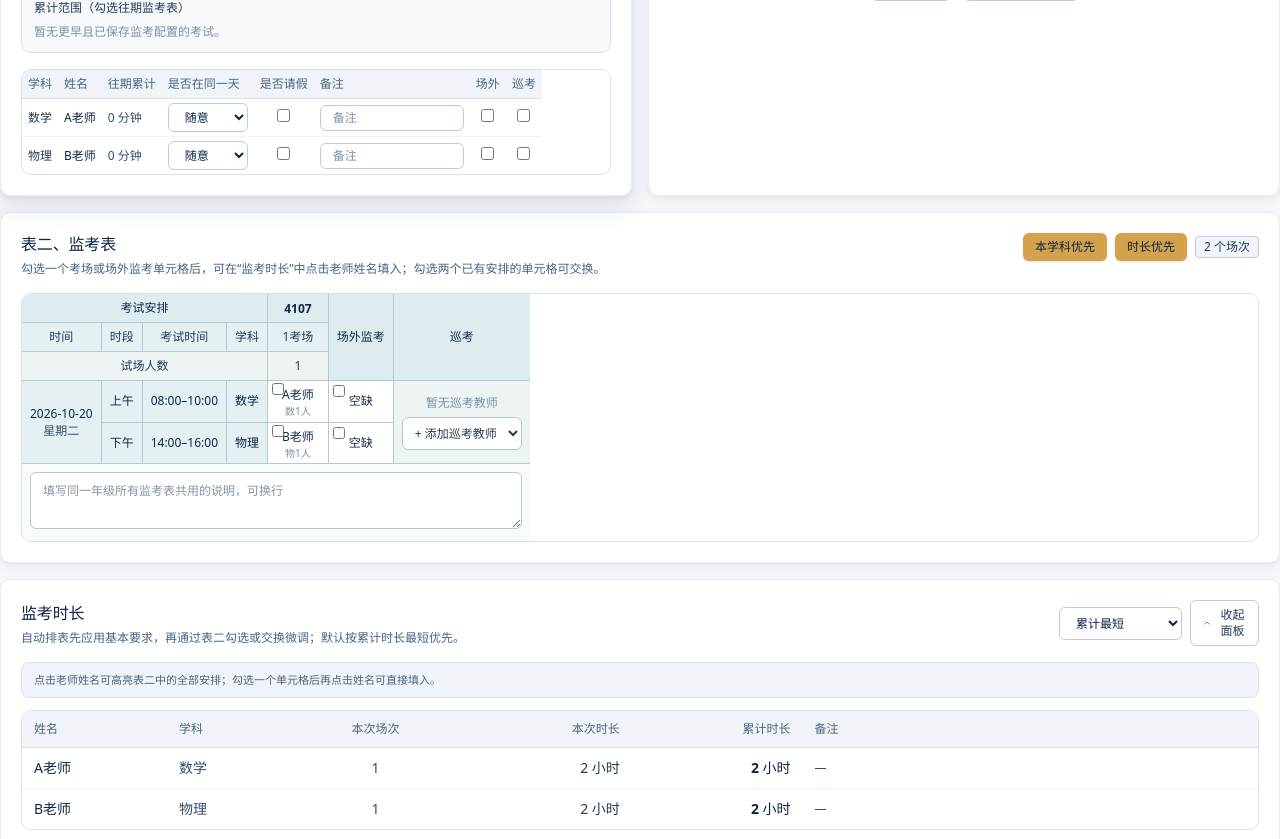
Test case: MyExamsPage › keeps other invigilation cells unchanged when replacing one teacher
(page scrolled)
Check: the cell named "选择 数学 4107监考单元格" shows "A老师", box [282, 385, 314, 403]
Check: the cell named "选择 物理 4107监考单元格" shows "B老师", box [282, 426, 314, 444]
Click the checkbox named "选择 数学 4107监考单元格": (278, 389) [272, 383, 284, 395]
(page scrolled)
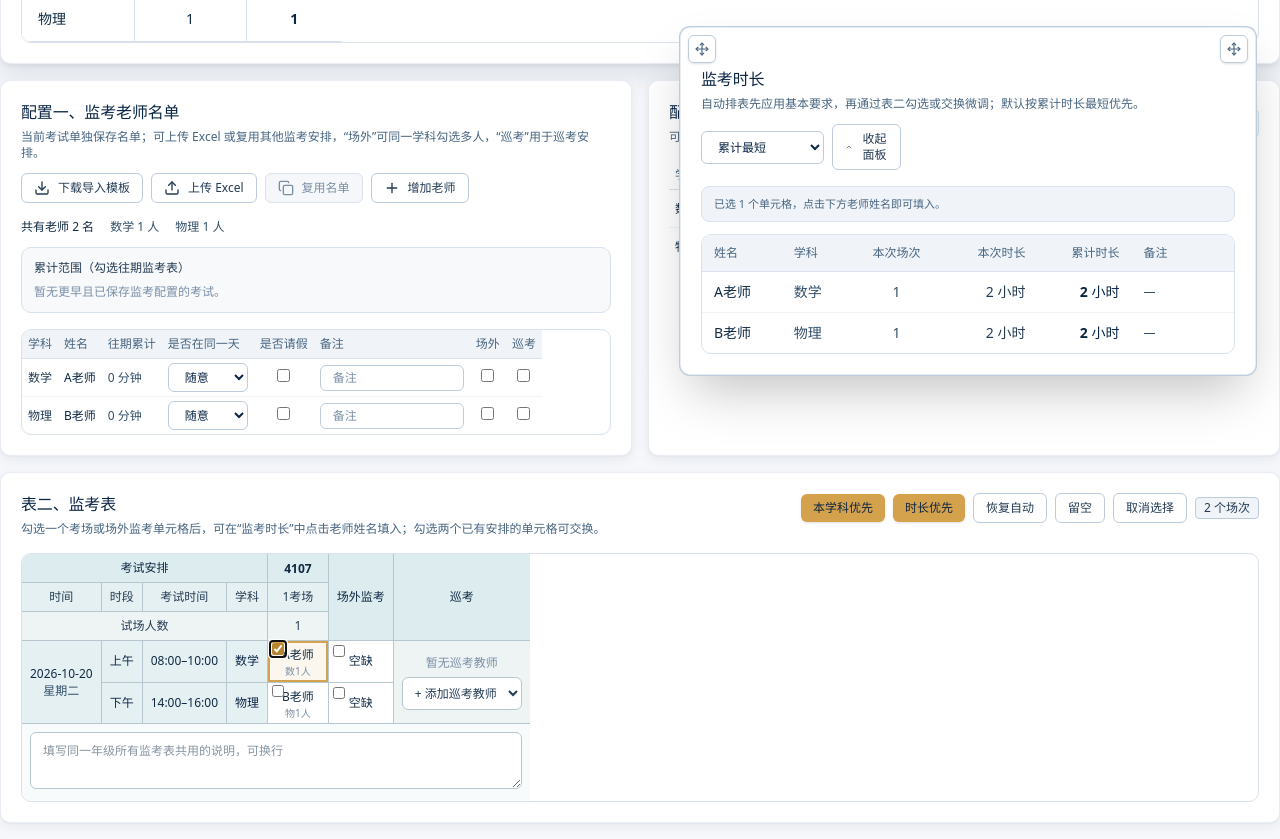
Click the button with aria-label "选择监考教师 B老师": (733, 333) [714, 323, 751, 343]
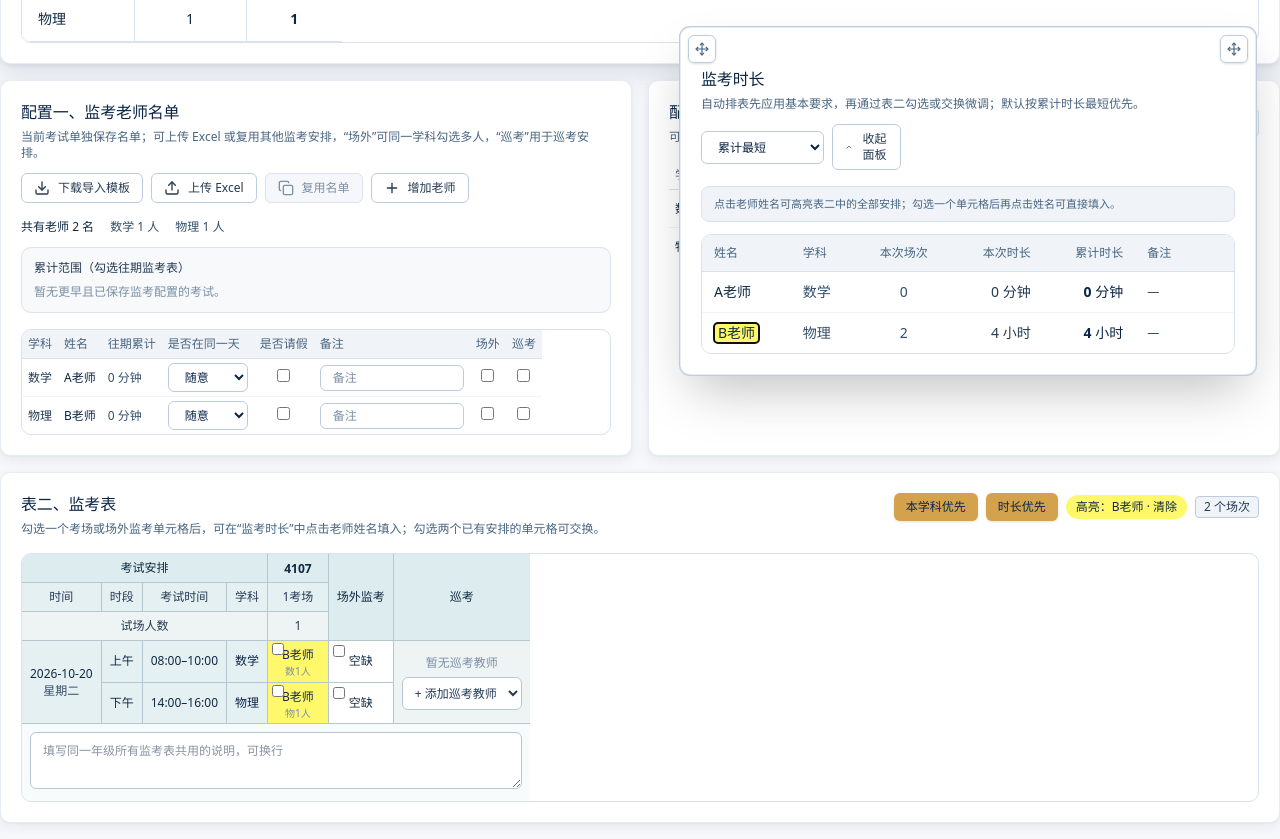
Check: the cell named "选择 物理 4107监考单元格" shows "B老师", box [282, 686, 314, 704]
Check: the cell named "选择 数学 4107监考单元格" shows "B老师", box [282, 645, 314, 663]
